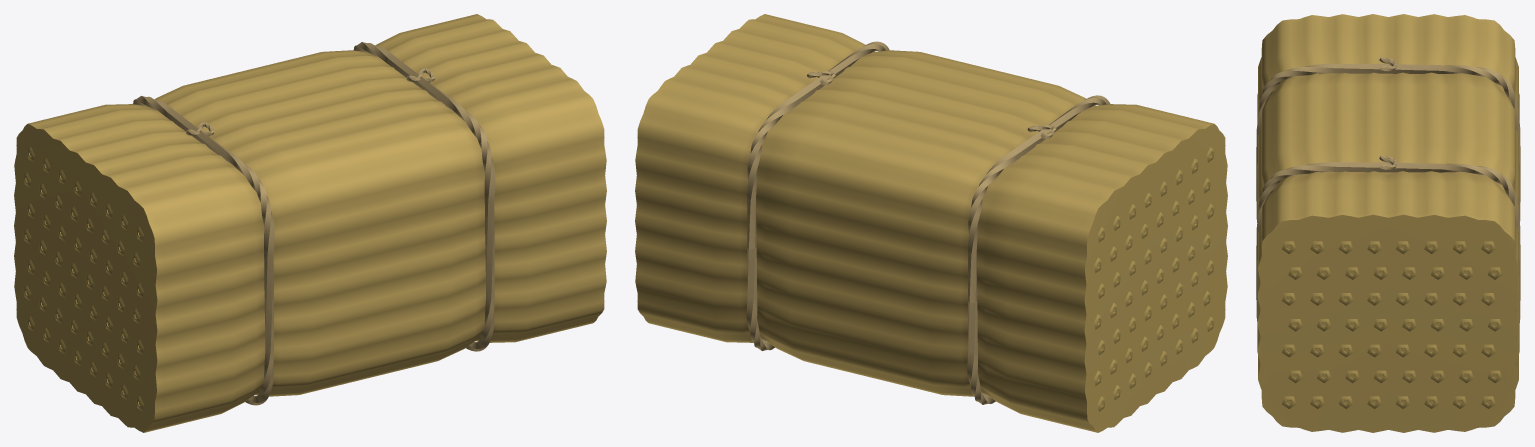
Rendered from pr_haybale.glb.
The picture shows the model from 3 angles, left to right: view 1: azimuth 30°, elevation 25°; view 2: azimuth 150°, elevation 25°; view 3: azimuth 270°, elevation 25°; orthographic projection. The views are drawn at different scales.
Visible parts, largest first — view 1: PR_haybale__body; view 2: PR_haybale__body; view 3: PR_haybale__body.
Boxes of the visible parts, bbox=[...] form: PR_haybale__body: bbox=[14, 14, 606, 432]; PR_haybale__body: bbox=[635, 14, 1227, 432]; PR_haybale__body: bbox=[1256, 14, 1520, 432].
Size of the model in its own units: 1.11 by 0.5724 by 0.6126.
